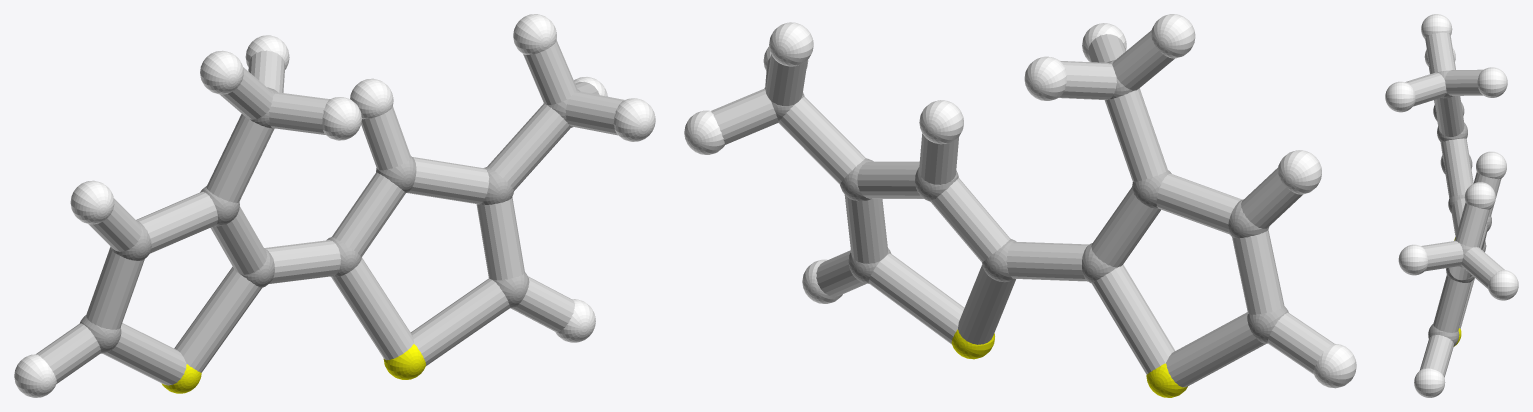
The model's file is Methylthiophene_Phi_15_Theta_160_Methylthiophene.glb.
The picture shows the model from 3 angles, left to right: view 1: azimuth 30°, elevation 25°; view 2: azimuth 150°, elevation 25°; view 3: azimuth 270°, elevation 25°; orthographic projection. The views are drawn at different scales.
Visible parts, largest first — view 1: grp7965, grp3621, grp1, grp7241; view 2: grp7965, grp3621, grp1, grp7241; view 3: grp7965, grp3621, grp1.
Part boxes in pixels (left/top/right/bottom): grp7965: left=36, top=40, right=624, bottom=385; grp3621: left=14, top=14, right=655, bottom=397; grp1: left=80, top=87, right=579, bottom=353; grp7241: left=161, top=344, right=425, bottom=393; grp7965: left=711, top=30, right=1333, bottom=387; grp3621: left=684, top=14, right=1356, bottom=388; grp1: left=764, top=60, right=1288, bottom=343; grp7241: left=951, top=329, right=1187, bottom=397; grp7965: left=1405, top=32, right=1504, bottom=377; grp3621: left=1385, top=14, right=1518, bottom=397; grp1: left=1428, top=70, right=1491, bottom=345.
Size of the model in its own units: 9.8 by 5.67 by 2.58.
